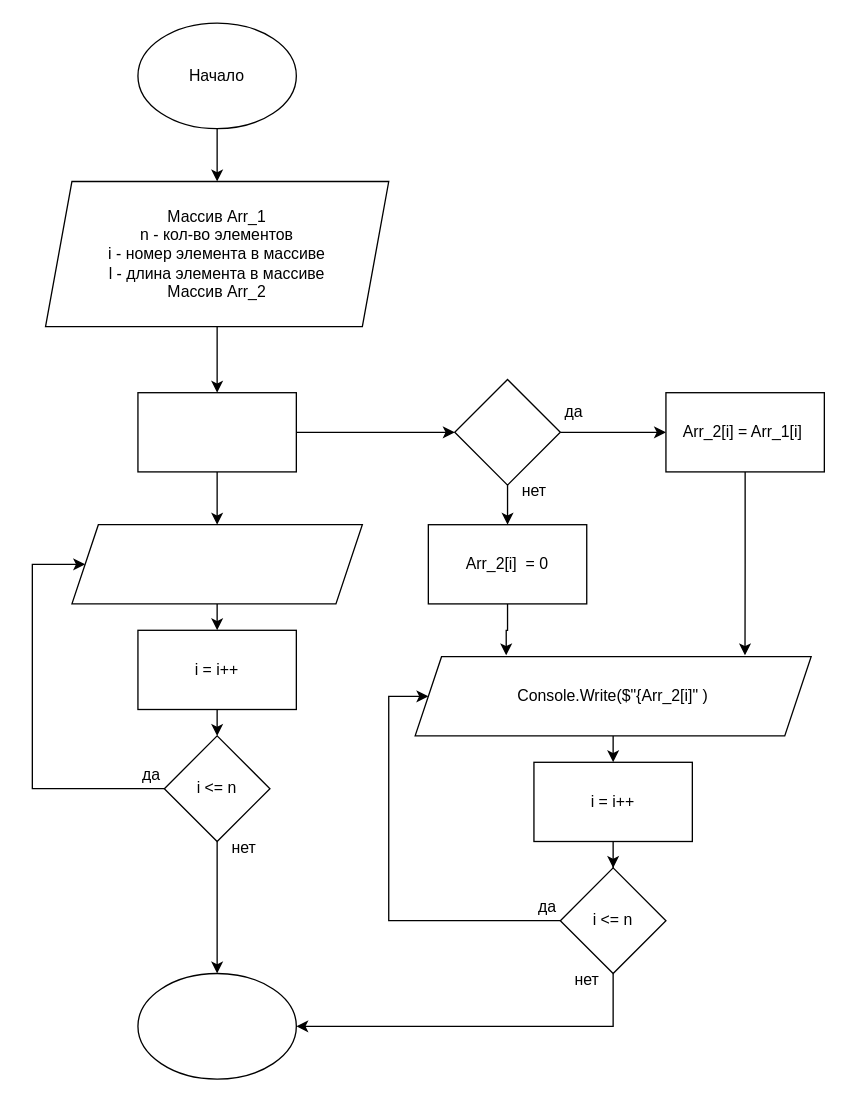
This 847x1102 diagram has some shape labels left out. Here are the shapes that lost their labels. From the top down, the centre of each, then its label:
(216,431): i = 0
(506,431): l <= 3
(216,563): Console.Write($"{Arr_1[i]" )
(216,1025): Конец
